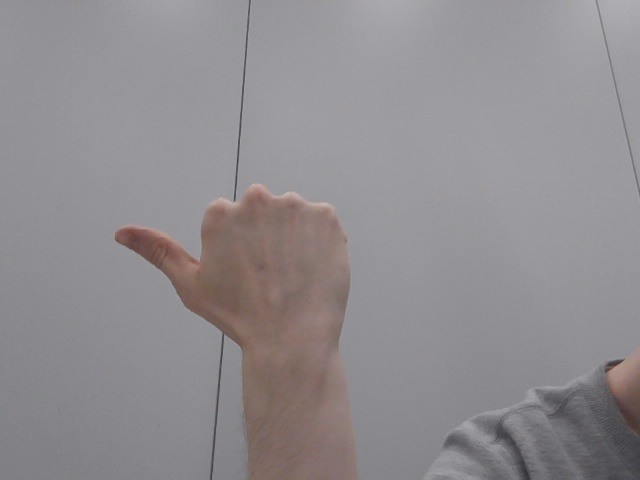right: (93, 174, 389, 418)
